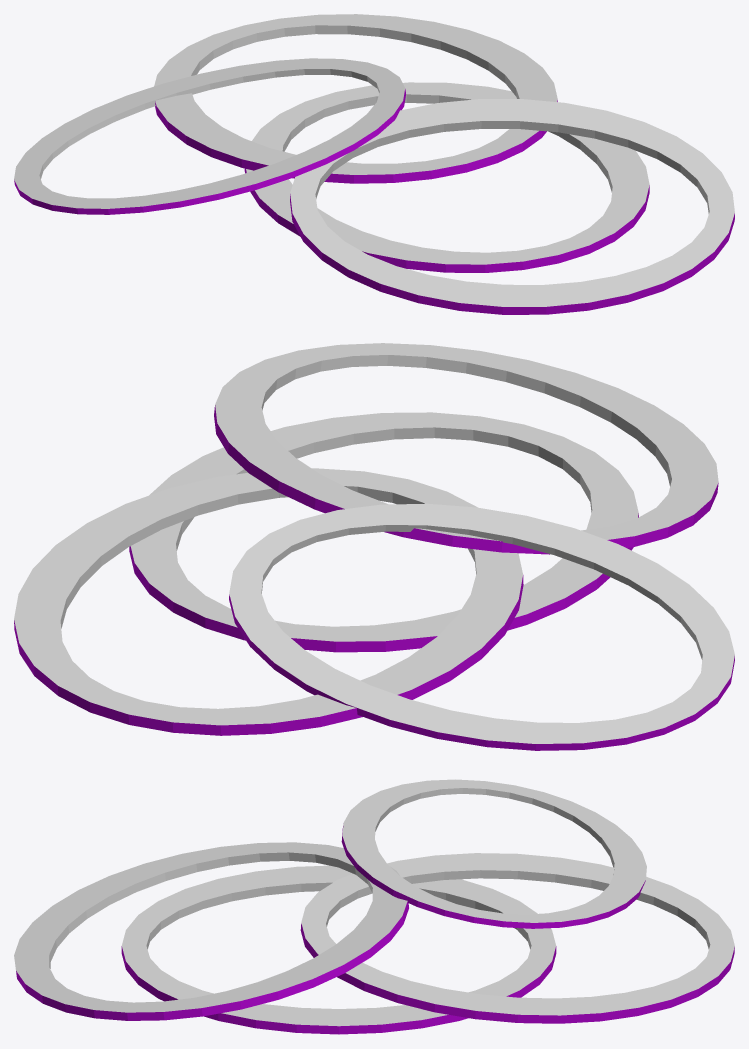
The model's file is OnionSlices.fbx.
The picture shows the model from 3 angles, top to bottom: view 1: azimuth 30°, elevation 25°; view 2: azimuth 150°, elevation 25°; view 3: azimuth 270°, elevation 25°; orthographic projection. The views are drawn at different scales.
Visible parts, largest first — view 1: OnionsCut; view 2: OnionsCut; view 3: OnionsCut.
Part boxes in pixels (x1,y1,x2,y2): OnionsCut: [14, 14, 734, 314]; OnionsCut: [14, 343, 734, 750]; OnionsCut: [14, 779, 734, 1034].
Bounding box in the file's own units: 409 × 42.59 × 498.
